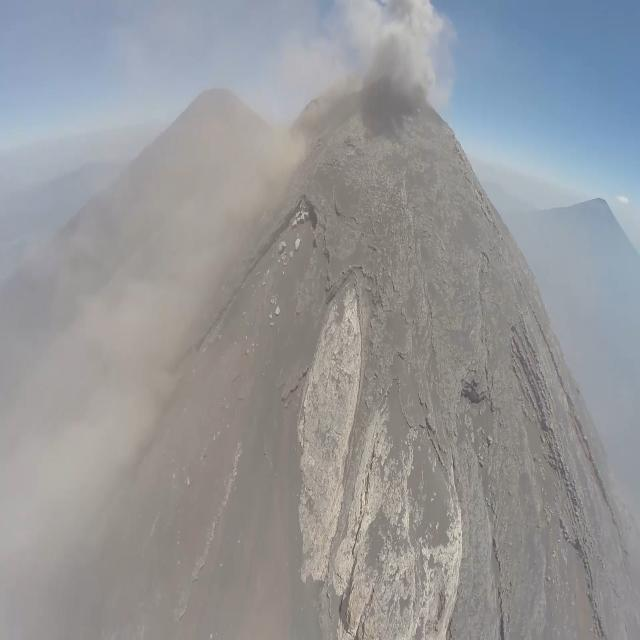Plume: (326, 0, 464, 118)
Summit: (262, 0, 640, 640)
